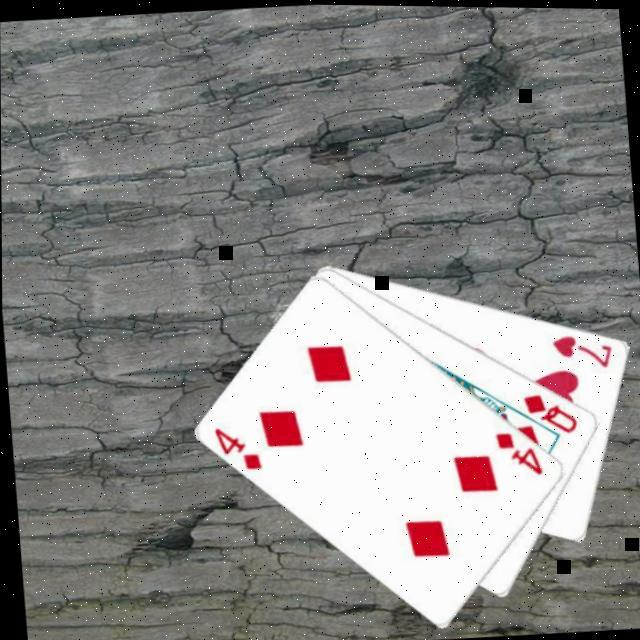4D: (489, 426, 544, 482), (208, 422, 262, 476)
7H: (546, 328, 614, 373)
QD: (518, 387, 578, 440)
